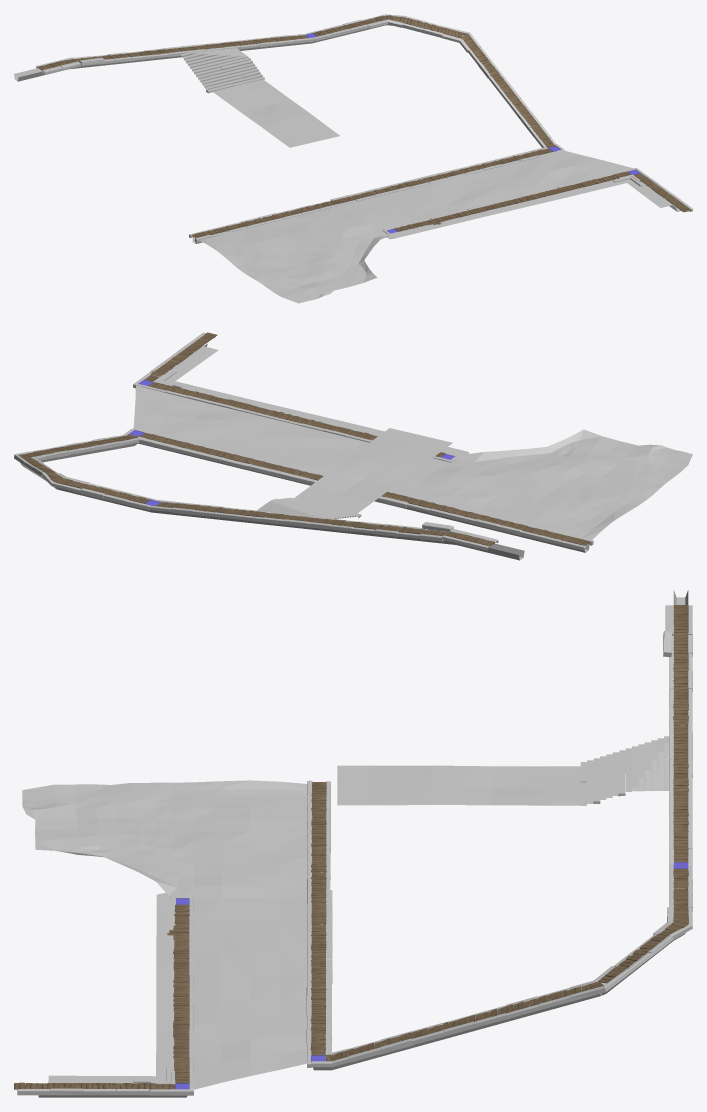
Rendered from SM_ENV_KNVLLG_ground_04.mo.fbx.
3 renders of one model, top to bottom at view 1: azimuth 30°, elevation 25°; view 2: azimuth 150°, elevation 25°; view 3: azimuth 270°, elevation 25°, orthographic. The views are drawn at different scales.
Visible parts, largest first — view 1: SM_ENV_KNVLLG_ground_04.mo; view 2: SM_ENV_KNVLLG_ground_04.mo; view 3: SM_ENV_KNVLLG_ground_04.mo.
Part boxes in pixels (left/top/right/bottom): SM_ENV_KNVLLG_ground_04.mo: left=14, top=14, right=692, bottom=303; SM_ENV_KNVLLG_ground_04.mo: left=14, top=332, right=692, bottom=560; SM_ENV_KNVLLG_ground_04.mo: left=14, top=590, right=692, bottom=1097.
Bounding box in the file's own units: 57.35 × 11.95 × 46.09.
